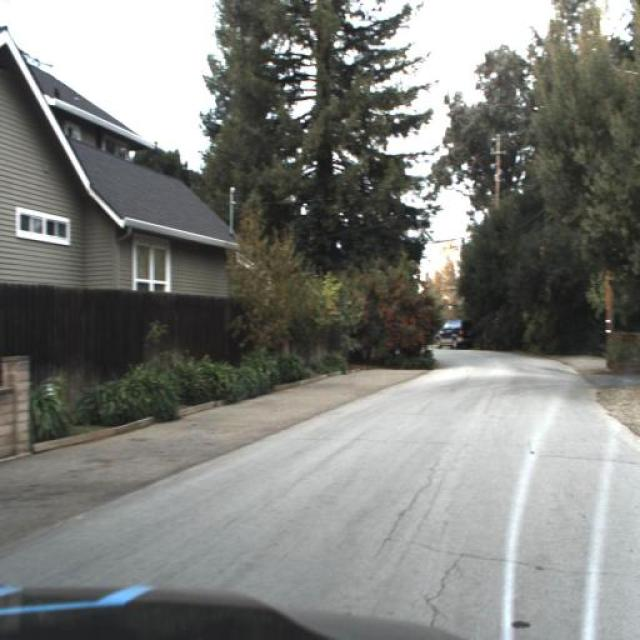car: (428, 307, 479, 362)
